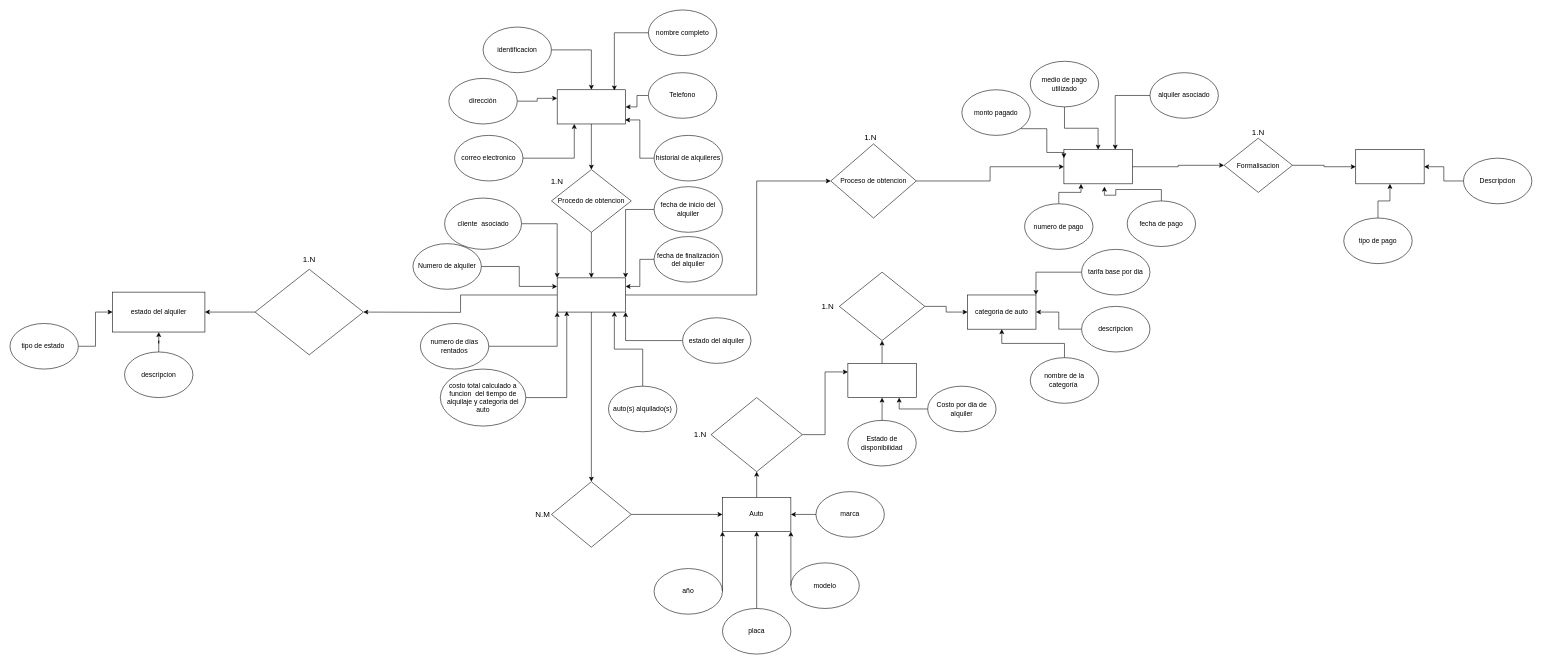
Image size: 1542x664. Some labels were removed from this diagram. Here are the shapes that lost their labels. From the top down, the centre of each, then its label:
At point 591,106: "cliente".
At point 1097,166: "pago".
At point 1389,166: "Medio de pago".
At point 309,312: "Durabilidad".
At point 591,294: "Alquiler".
At point 882,306: "Variedad de eleccion".
At point 881,380: "Categoría".
At point 756,434: "Modelos".
At point 591,514: "Proceso de eleccion".
